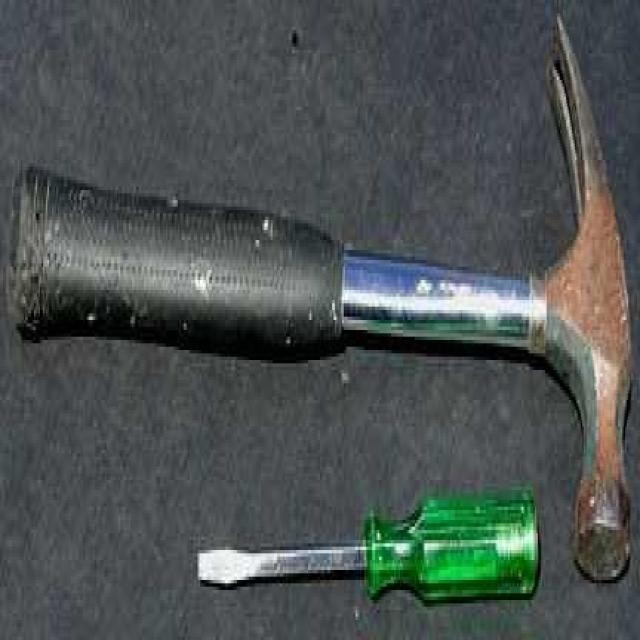hammer: (11, 15, 634, 579)
